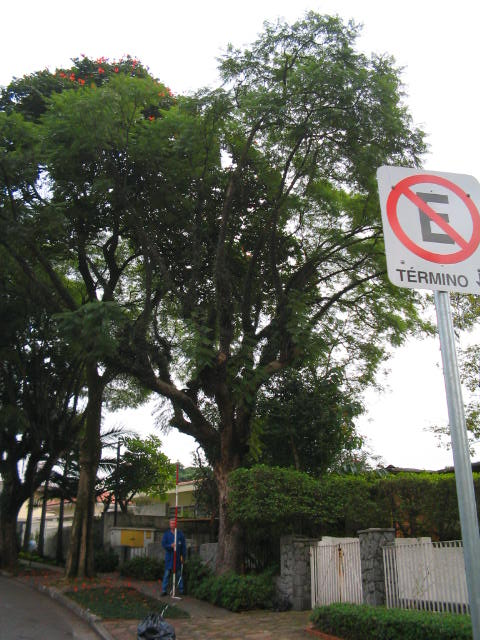crown: (7, 15, 436, 418)
stem: (204, 470, 258, 603)
stick: (167, 463, 183, 599)
tree: (4, 13, 437, 605)
